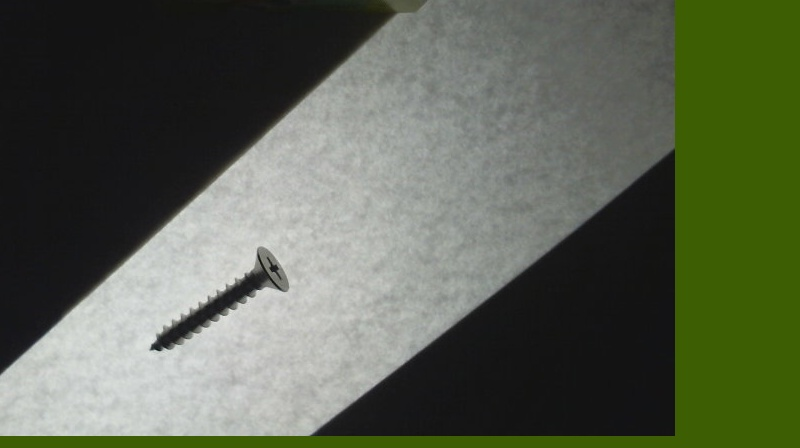S001: (147, 244, 292, 355)
